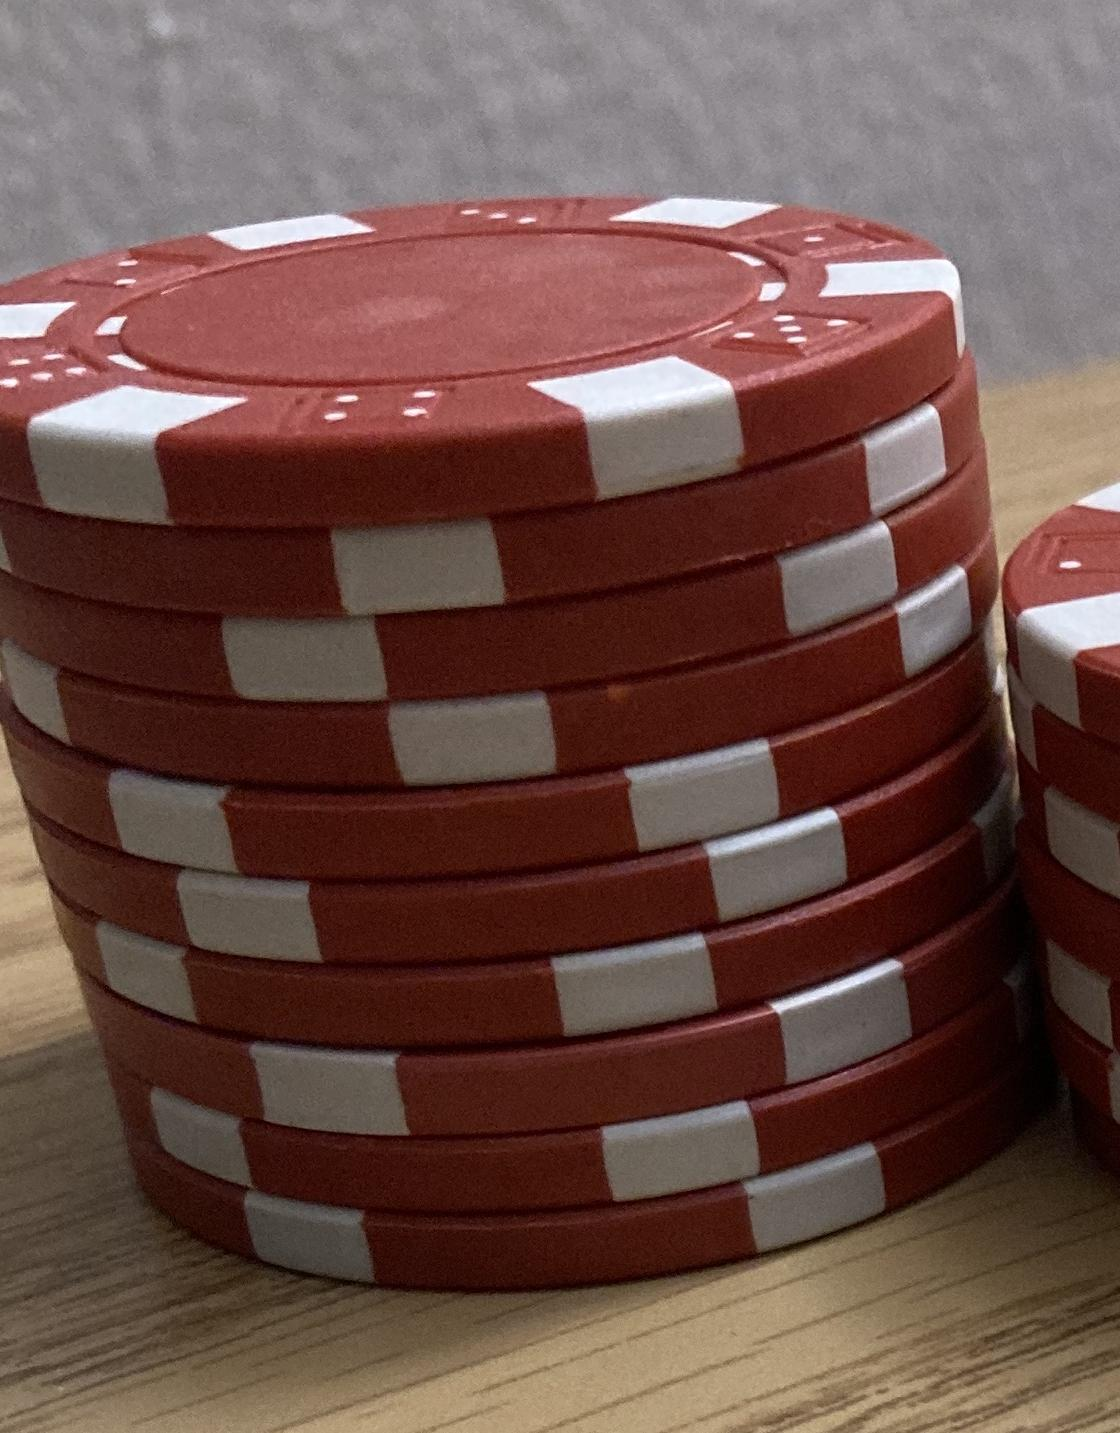Chip: (1, 1, 1120, 1433)
